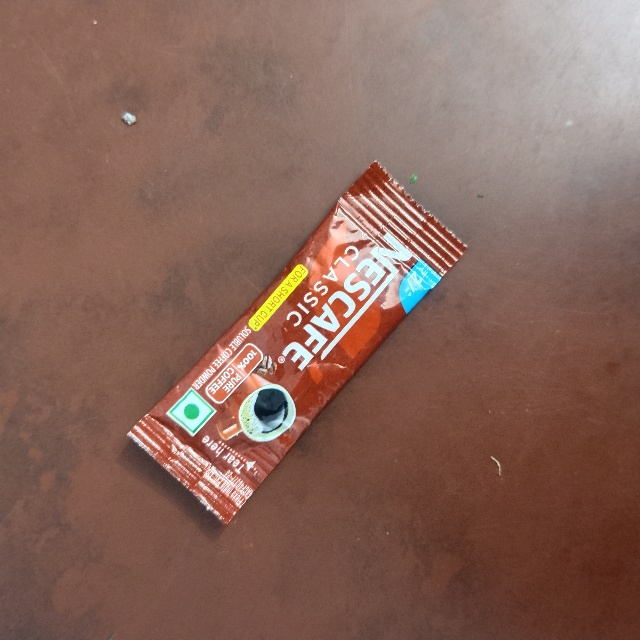Nescafe Coffee: (372, 154, 508, 535)
